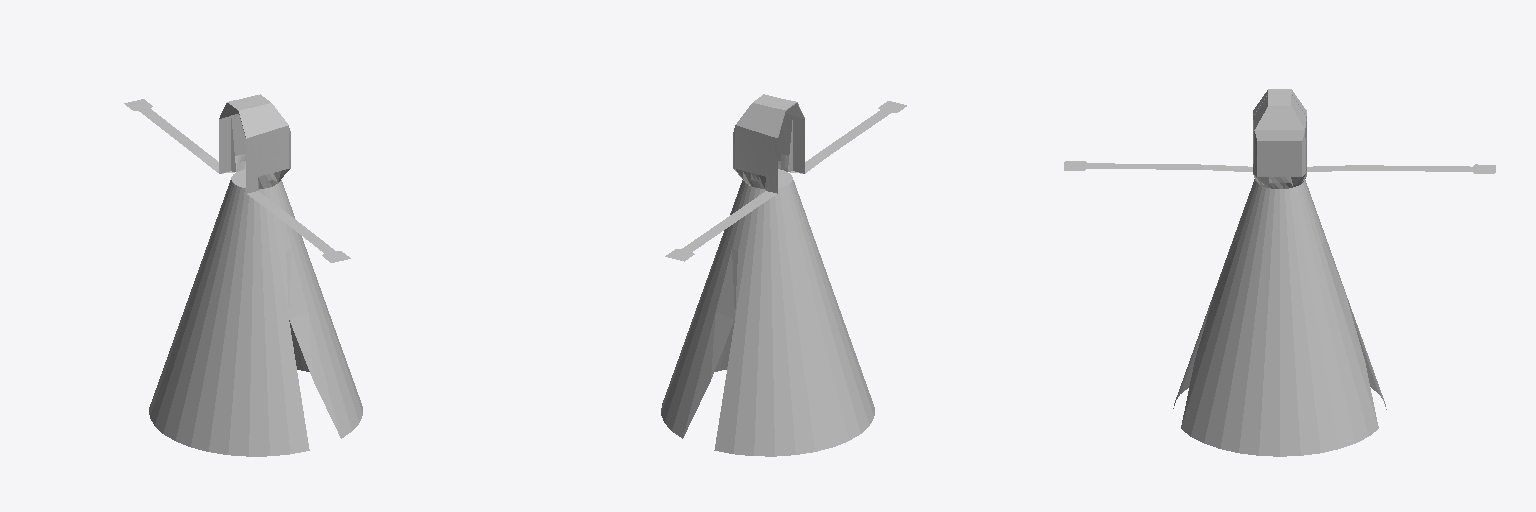
The model's file is mother-2 1.obj.
3 renders of one model, left to right at view 1: azimuth 30°, elevation 25°; view 2: azimuth 150°, elevation 25°; view 3: azimuth 270°, elevation 25°, orthographic.
Visible parts, largest first — view 1: Cube.001_Cube.003; view 2: Cube.001_Cube.003; view 3: Cube.001_Cube.003.
Part boxes in pixels (bbox=[...]): Cube.001_Cube.003: bbox=[124, 94, 362, 456]; Cube.001_Cube.003: bbox=[661, 94, 906, 456]; Cube.001_Cube.003: bbox=[1064, 89, 1495, 456].
Size of the model in its own units: 2.3 by 3.68 by 4.63.